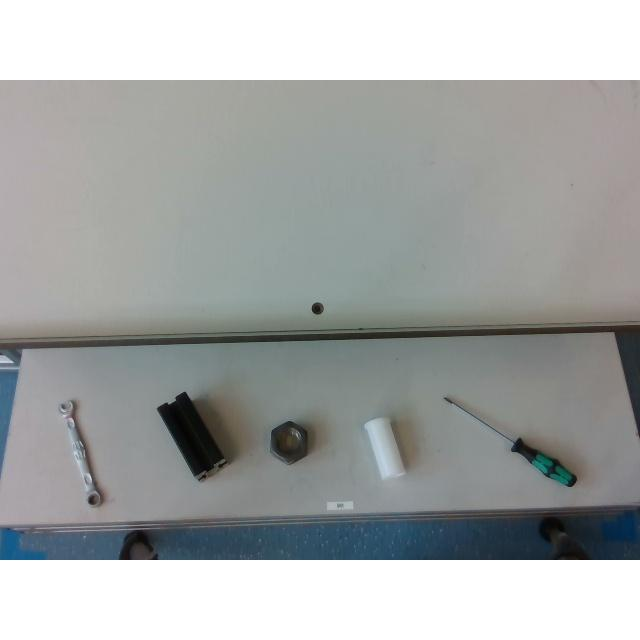M30: (269, 421, 307, 464)
S40_40_B: (157, 392, 227, 480)
Screwdriver: (444, 397, 576, 488)
Spacer: (363, 418, 405, 478)
Wrench: (58, 400, 102, 506)
